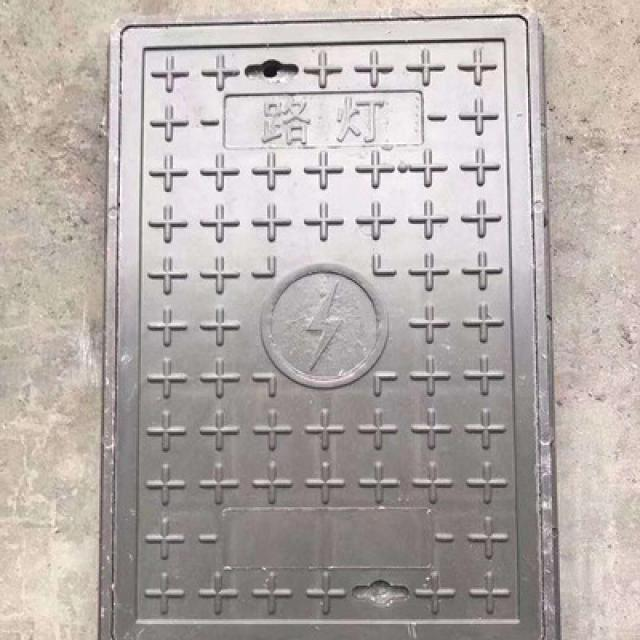manhole: (97, 7, 562, 640)
